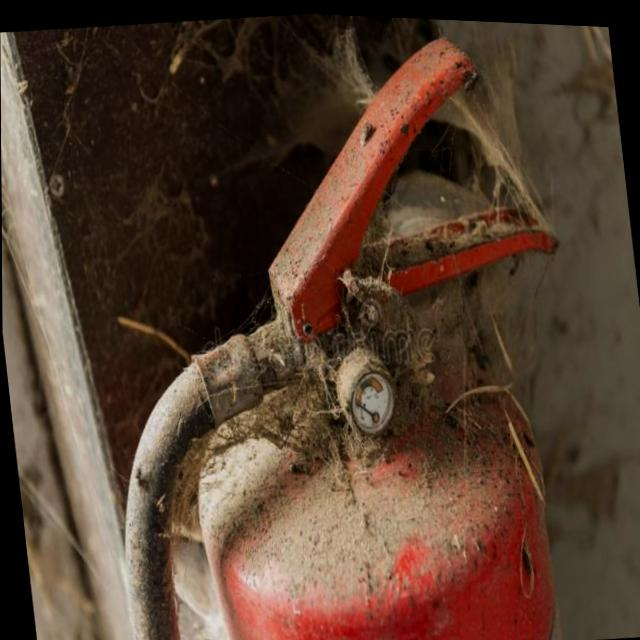FireExtinguisher: (62, 3, 610, 640)
